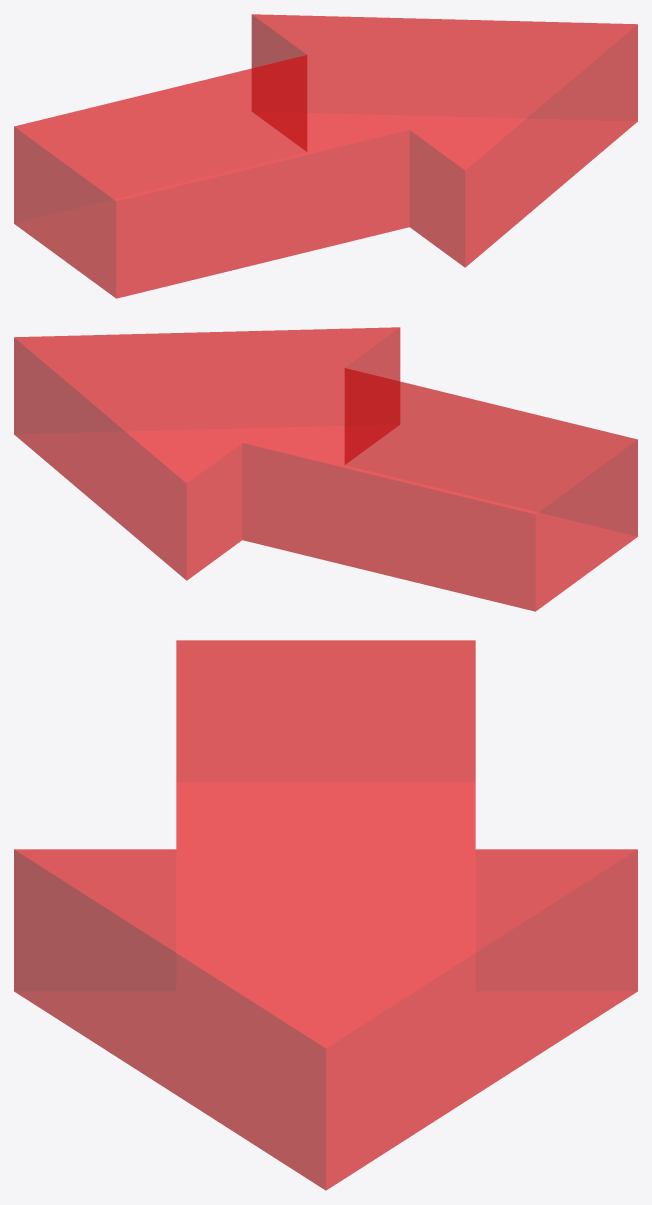
The model's file is Arrowofdestiny 1.fbx.
The picture shows the model from 3 angles, top to bottom: view 1: azimuth 30°, elevation 25°; view 2: azimuth 150°, elevation 25°; view 3: azimuth 270°, elevation 25°; orthographic projection. The views are drawn at different scales.
Visible parts, largest first — view 1: Cube; view 2: Cube; view 3: Cube.
Part boxes in pixels (x1=…): Cube: x1=14, y1=14, x2=637, y2=298; Cube: x1=14, y1=327, x2=637, y2=611; Cube: x1=14, y1=640, x2=637, y2=1190.
Bounding box in the file's own units: 391 × 63.4 × 252.
